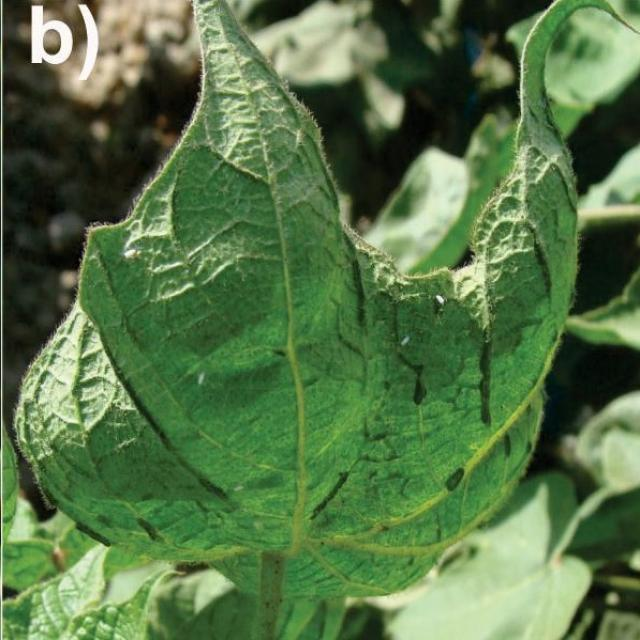Leaf Curl Virus: (255, 103, 570, 509)
